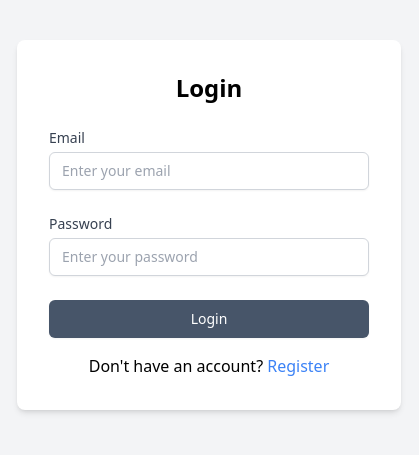
it: Login spec › should display error validation when input fields are invalid
Click the submit button: (209, 319) top-left (49, 300), bottom-right (369, 338)
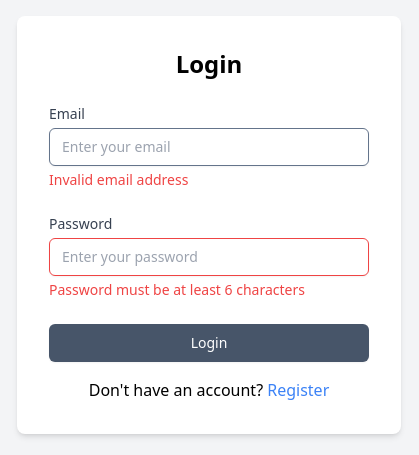
Now the text "Invalid email address" is shown, box top-left (49, 170), bottom-right (188, 189)
Now the text "Password must be at least 6 characters" is shown, box top-left (49, 280), bottom-right (305, 299)
